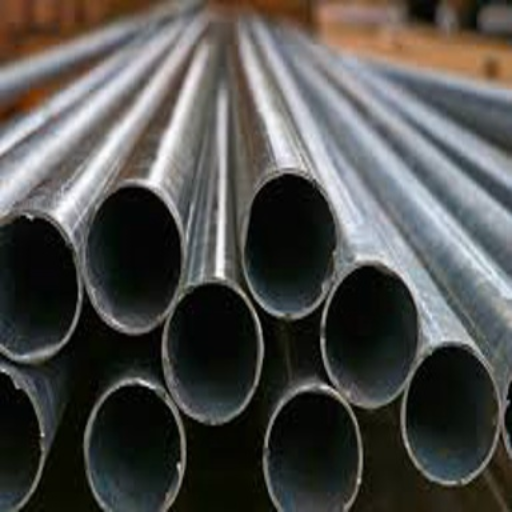Circle: (85, 186, 183, 328), (324, 265, 419, 403), (164, 279, 259, 415), (243, 173, 336, 311), (406, 343, 497, 482), (87, 381, 181, 511), (264, 388, 360, 511), (1, 213, 79, 355), (0, 372, 44, 507)
